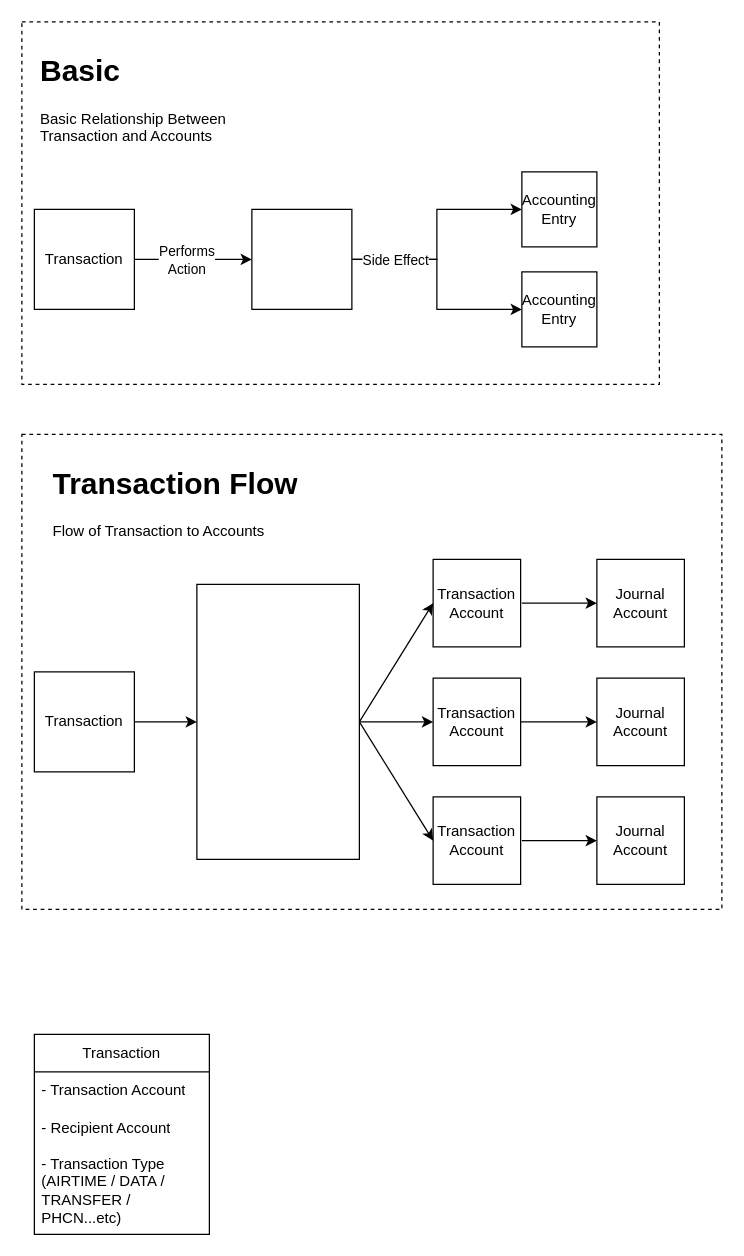
The diagram is 744 pixels wide and 1256 high, and some of its shapes have lost their labels. The shapes that lost their labels are listed below. From the top down, each one's centre as x and y in pixels, then its label:
point (301, 258): Accounts
point (277, 721): Transaction Fulfilment Engine
